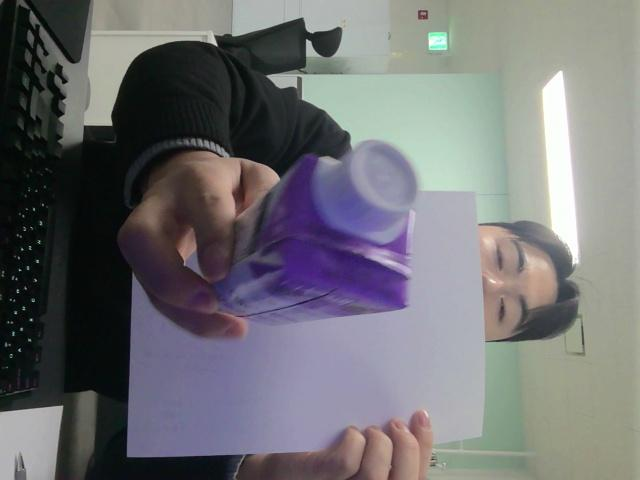milk: (217, 141, 417, 324)
